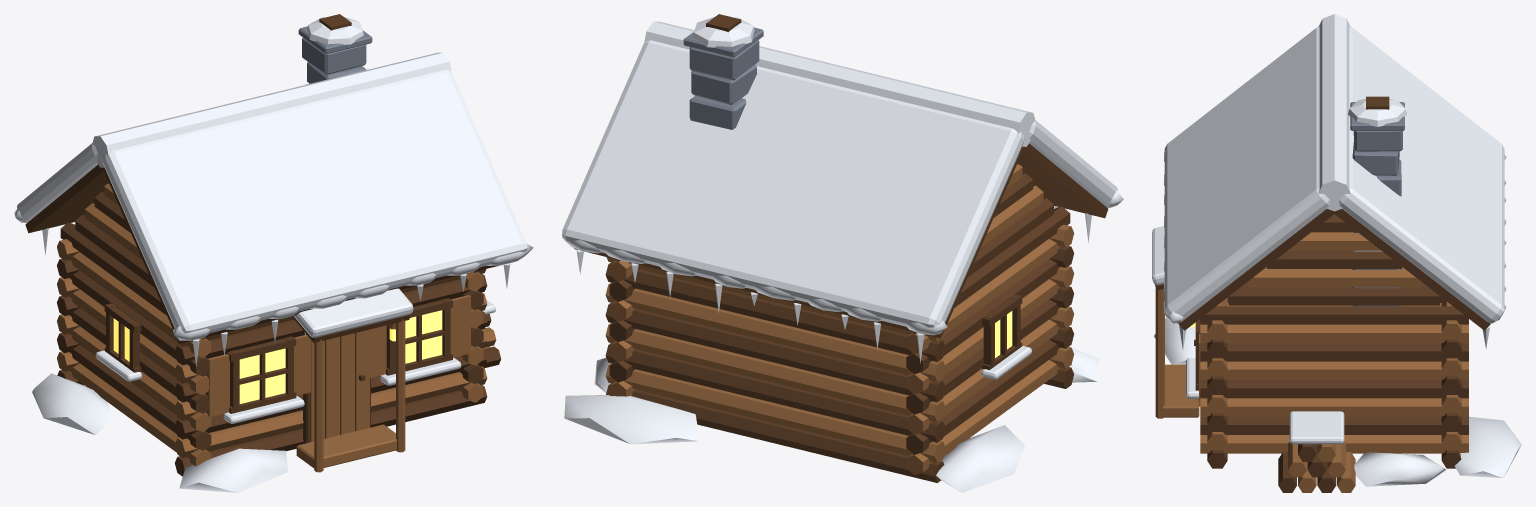
The model's file is polar_cabin.glb.
3 views of the same model, side by side, from view 1: azimuth 30°, elevation 25°; view 2: azimuth 150°, elevation 25°; view 3: azimuth 270°, elevation 25° (orthographic). The views are drawn at different scales.
Parts seen in each view (by area): view 1: polar_cabin; view 2: polar_cabin; view 3: polar_cabin.
Part boxes in pixels (x1,y1,x2,y2): polar_cabin: (14, 14, 533, 492); polar_cabin: (562, 14, 1123, 492); polar_cabin: (1152, 14, 1521, 492).
Size of the model in its own units: 5.83 by 4.75 by 4.73.
